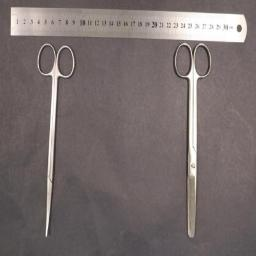Dressing Scissors: (175, 41, 213, 239)
